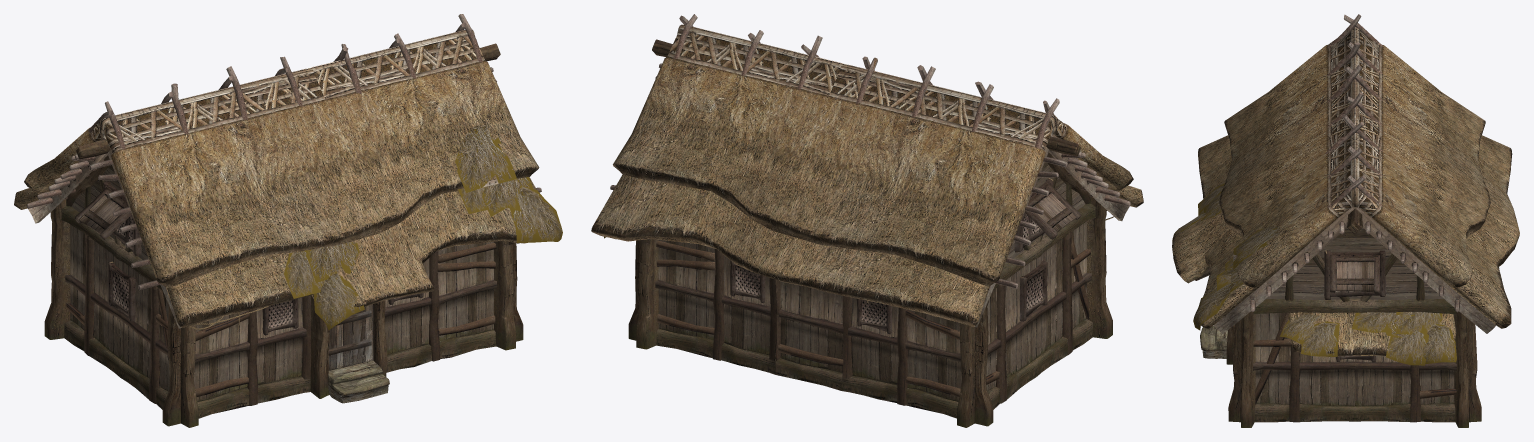
Rendered from House03.FBX.
3 views of the same model, side by side, from view 1: azimuth 30°, elevation 25°; view 2: azimuth 150°, elevation 25°; view 3: azimuth 270°, elevation 25° (orthographic). The views are drawn at different scales.
Parts seen in each view (by area): view 1: LV_TurtleLake_Lakevillage_House02B_SM_EYE, LV_TurtleLake_Lakevillage_House02A_SM_EYE; view 2: LV_TurtleLake_Lakevillage_House02B_SM_EYE, LV_TurtleLake_Lakevillage_House02A_SM_EYE; view 3: LV_TurtleLake_Lakevillage_House02B_SM_EYE, LV_TurtleLake_Lakevillage_House02A_SM_EYE.
Boxes of the visible parts, x1,y1,x2,y2 form: LV_TurtleLake_Lakevillage_House02B_SM_EYE: [14, 29, 562, 330]; LV_TurtleLake_Lakevillage_House02A_SM_EYE: [26, 14, 541, 427]; LV_TurtleLake_Lakevillage_House02B_SM_EYE: [591, 24, 1143, 327]; LV_TurtleLake_Lakevillage_House02A_SM_EYE: [610, 14, 1130, 427]; LV_TurtleLake_Lakevillage_House02B_SM_EYE: [1172, 27, 1519, 365]; LV_TurtleLake_Lakevillage_House02A_SM_EYE: [1195, 14, 1481, 427].
Bounding box in the file's own units: 358 × 232 × 280.
